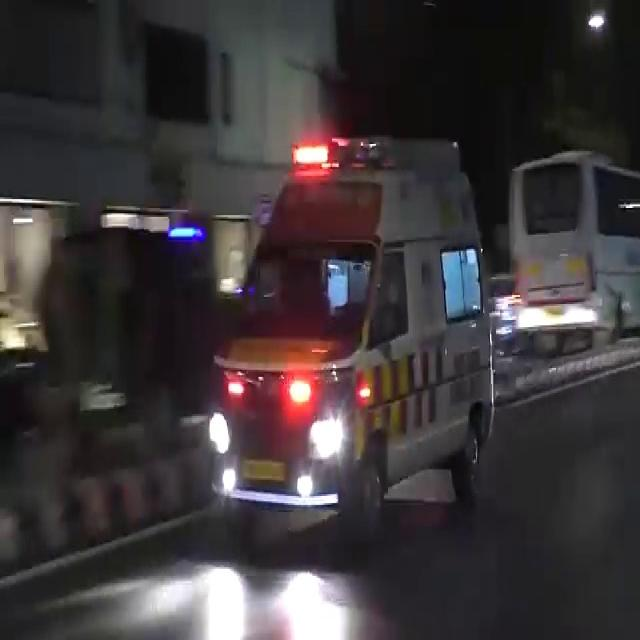ambulance: (217, 162, 500, 483)
